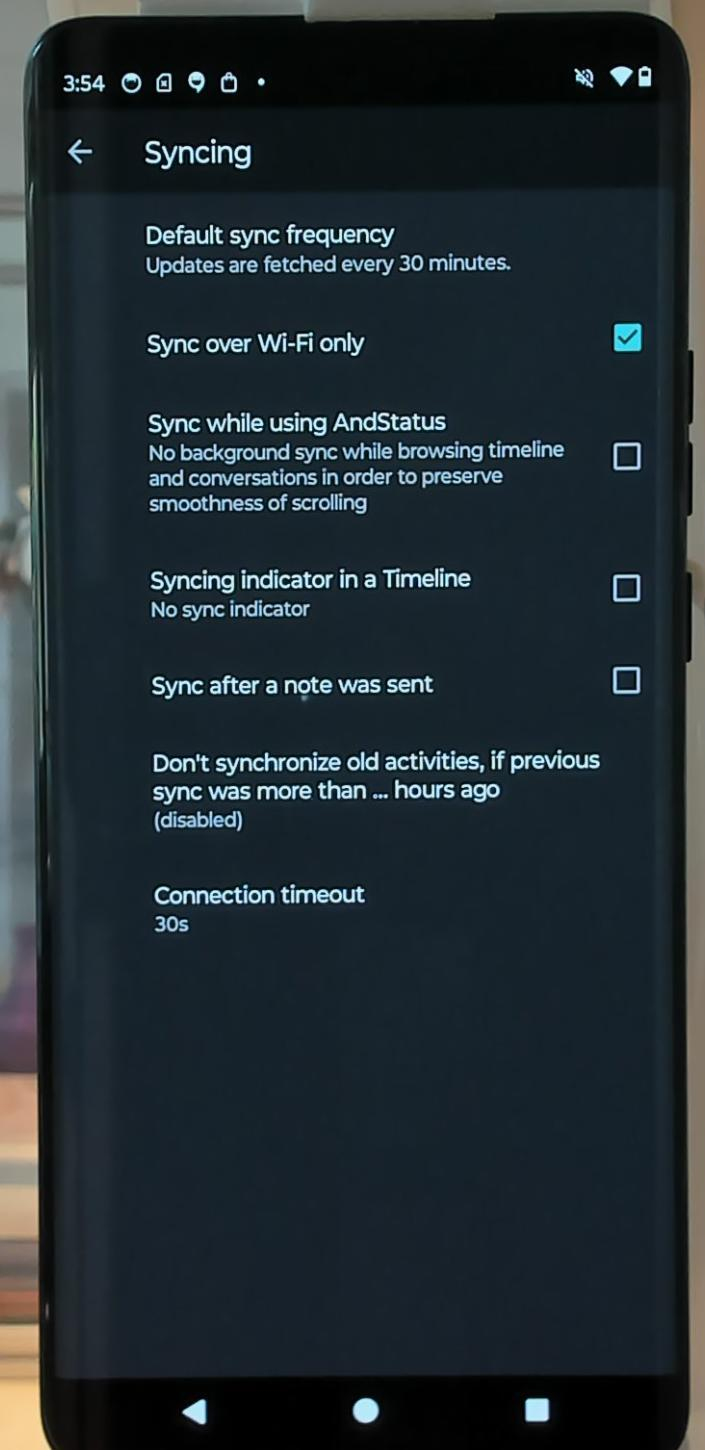Checkbox: (609, 568, 644, 608), (610, 320, 645, 356), (611, 663, 647, 698), (611, 440, 642, 472)
CommunBotton: (348, 1389, 384, 1429), (520, 1390, 555, 1428), (174, 1393, 212, 1426)
